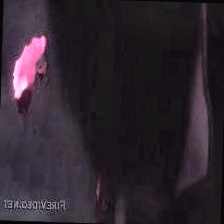fire: (0, 14, 61, 110)
